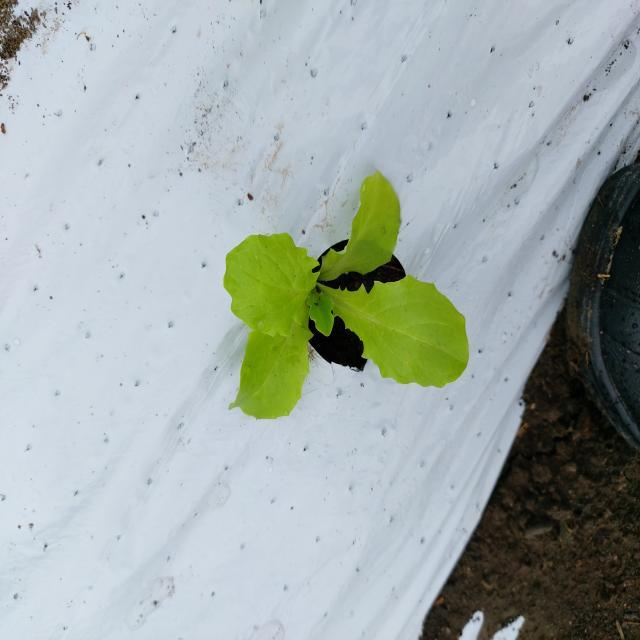Lettuce-Not-Ready-to-Harvest: (224, 174, 468, 418)
